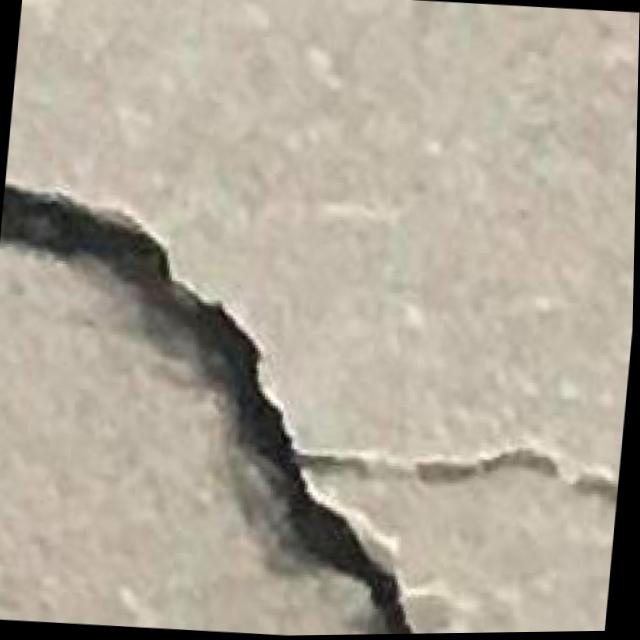Crack: (0, 157, 637, 640)
